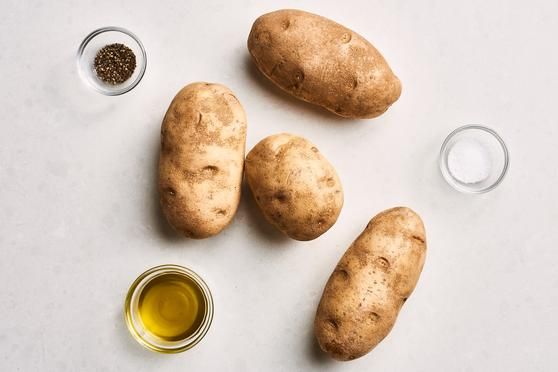potato: (303, 207, 441, 366), (245, 6, 411, 130), (156, 76, 250, 242), (244, 128, 347, 243)
